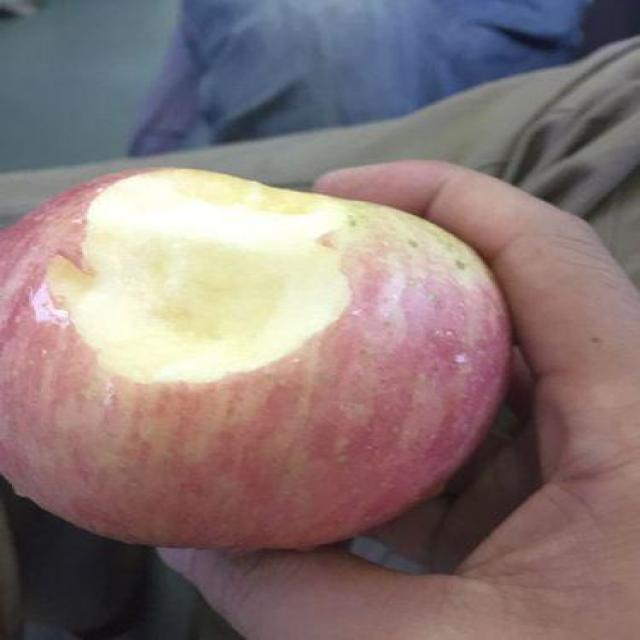Rotten: (12, 173, 495, 560)
